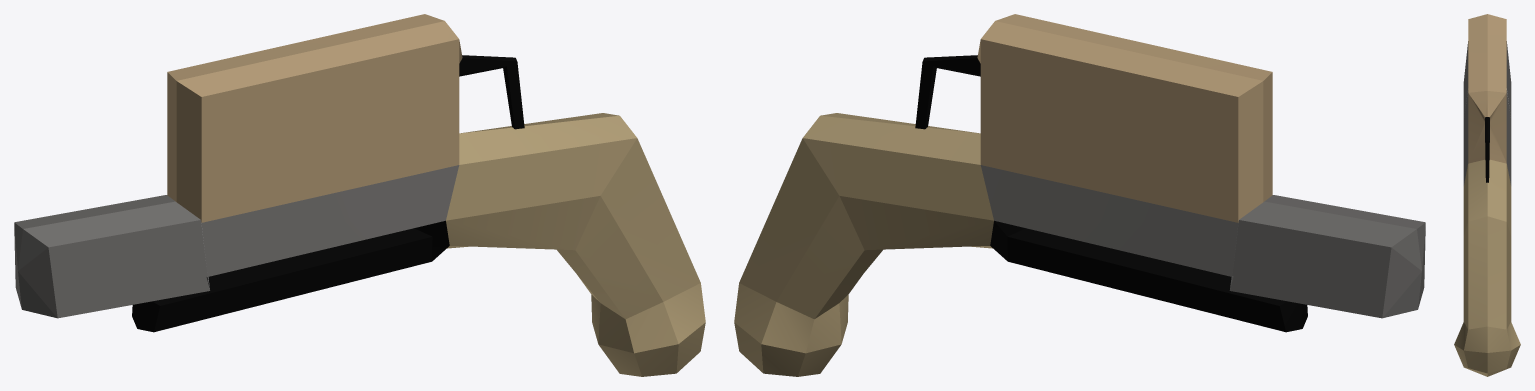
The model's file is Grappling_Hook.fbx.
3 views of the same model, side by side, from view 1: azimuth 30°, elevation 25°; view 2: azimuth 150°, elevation 25°; view 3: azimuth 270°, elevation 25° (orthographic). The views are drawn at different scales.
Parts seen in each view (by area): view 1: Grappling_Hook; view 2: Grappling_Hook; view 3: Grappling_Hook.
Boxes of the visible parts, x1,y1,x2,y2 form: Grappling_Hook: (14,14,705,376); Grappling_Hook: (734,14,1425,376); Grappling_Hook: (1454,14,1520,376).
Bounding box in the file's own units: 1.65 × 0.9448 × 0.2485.
